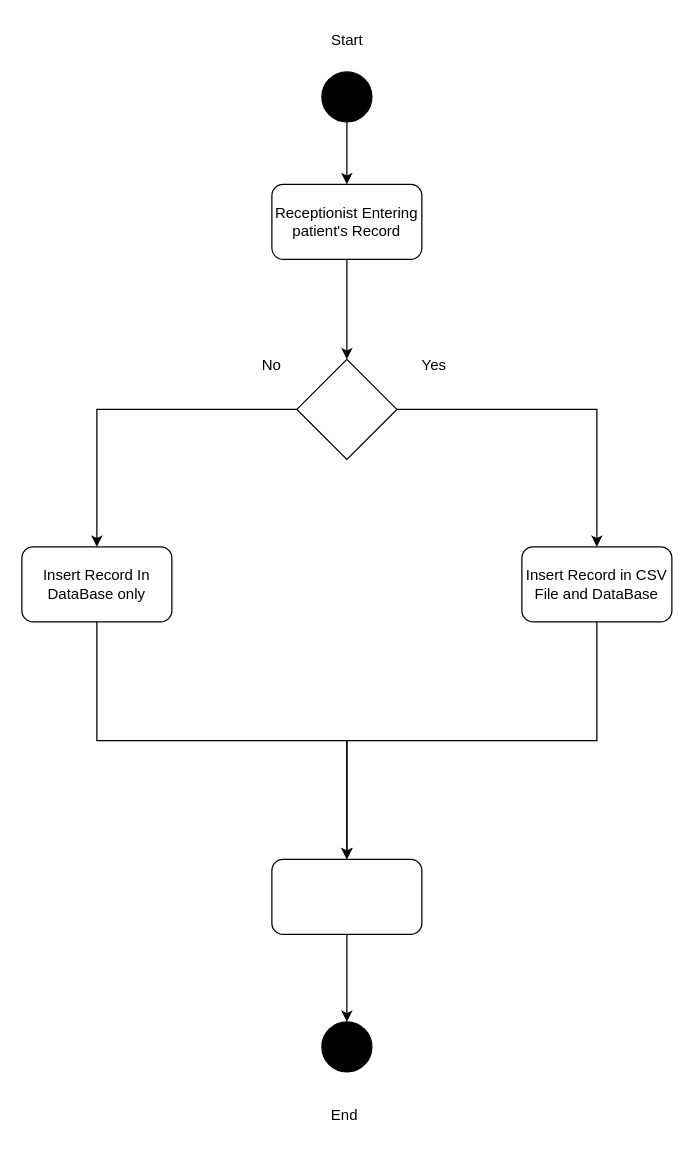
Some shapes in this 694 by 1155 pixel diagram are drawn without their labels. The box of each missing label's shape, as (x1, y1, x2, y2) in pixels:
Ask for permission: (296, 358, 397, 459)
Update Database or maybe CSV: (271, 858, 422, 934)
